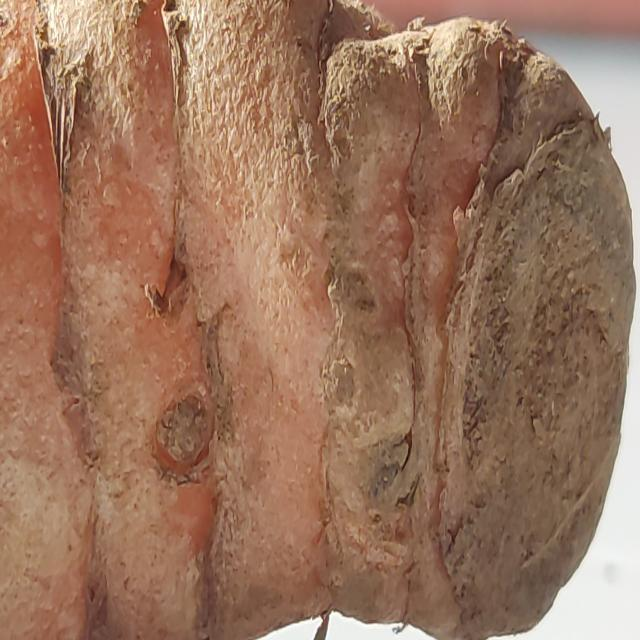ginger: (0, 0, 613, 608)
